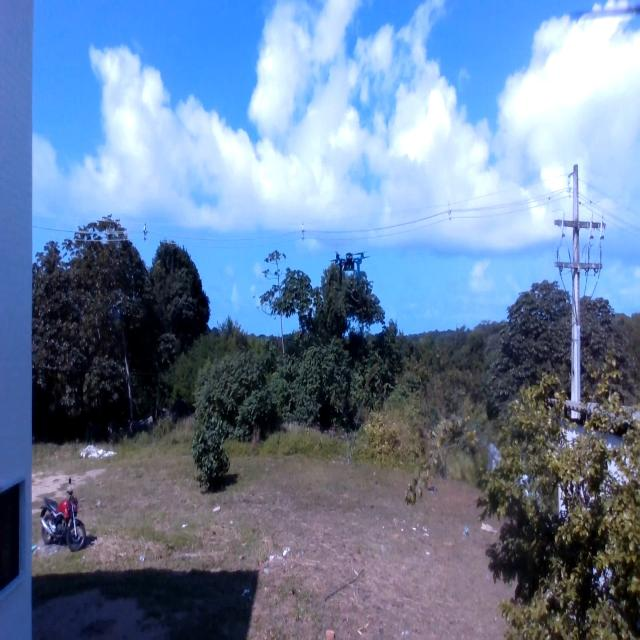-uav-: (328, 238, 372, 306)
